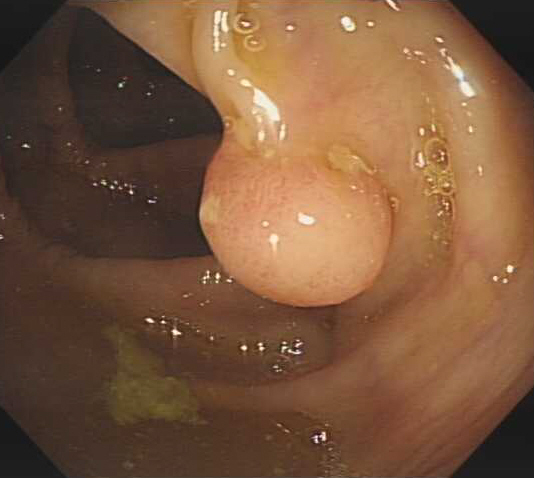adenoma: (195, 144, 394, 310)
